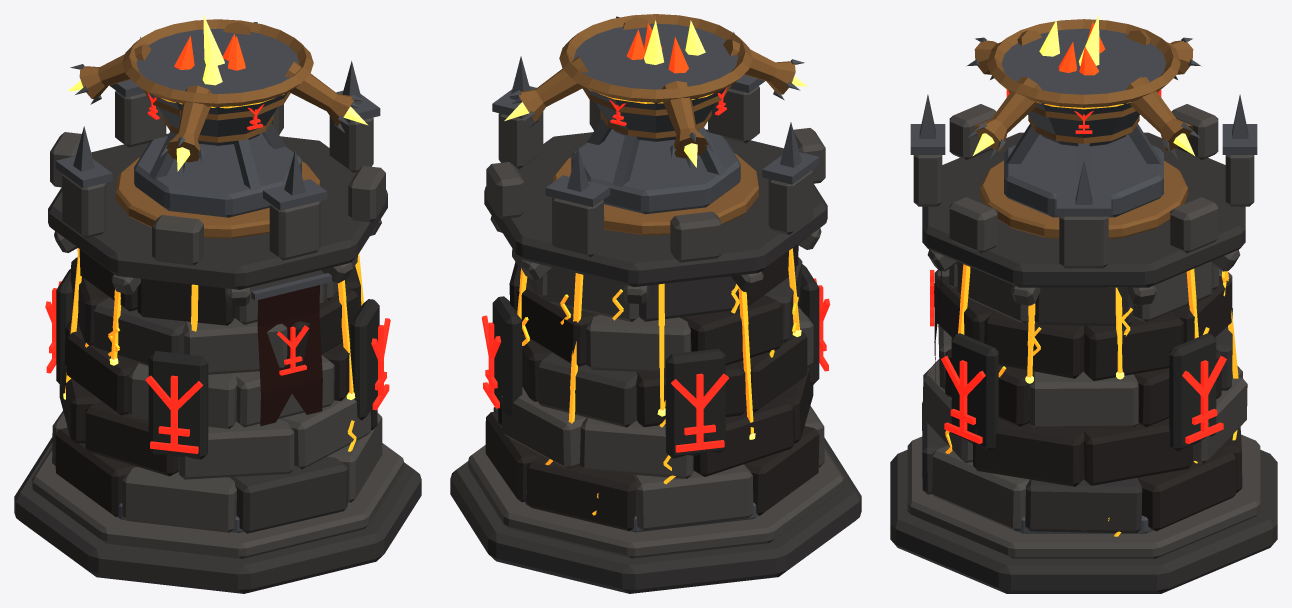
File: fire_tower_inferno.glb
The picture shows the model from 3 angles, left to right: view 1: azimuth 30°, elevation 25°; view 2: azimuth 150°, elevation 25°; view 3: azimuth 270°, elevation 25°; orthographic projection.
Parts seen in each view (by area): view 1: Platform, Plinth, Plinth_Step, Crucible, Turret_Base, Banner, Block_0_6, Block_0_5, Block_1_5, RuneStone_3, Crucible_Rim, Block_3_5 (+40 smaller); view 2: Platform, Plinth, Plinth_Step, Crucible, Turret_Base, Block_0_3, Block_0_2, Block_2_2, Block_1_2, RuneStone_2, Block_3_2, Crucible_Rim (+38 smaller); view 3: Platform, Plinth, Plinth_Step, Crucible, Turret_Base, Block_0_0, Block_2_0, Block_1_7, Block_1_0, Turret_Ring, Block_0_1, Block_3_0 (+37 smaller).
Part boxes in pixels (x1,y1,x2,y2): Platform: [48, 133, 387, 289]; Plinth: [14, 437, 421, 593]; Plinth_Step: [32, 443, 403, 558]; Crucible: [136, 28, 299, 145]; Turret_Base: [134, 133, 301, 217]; Banner: [257, 285, 322, 426]; Block_0_6: [229, 456, 348, 533]; Block_0_5: [122, 467, 236, 532]; Block_1_5: [178, 419, 294, 479]; RuneStone_3: [148, 351, 208, 459]; Crucible_Rim: [122, 19, 313, 106]; Block_3_5: [183, 318, 287, 374]; Platform: [484, 129, 827, 286]; Plinth: [450, 437, 861, 593]; Plinth_Step: [468, 445, 843, 558]; Crucible: [573, 23, 738, 141]; Turret_Base: [571, 129, 740, 214]; Block_0_3: [633, 464, 753, 530]; Block_0_2: [526, 455, 635, 531]; Block_2_2: [537, 353, 637, 427]; Block_1_2: [580, 417, 693, 478]; RuneStone_2: [665, 348, 725, 458]; Block_3_2: [586, 315, 691, 372]; Crucible_Rim: [559, 14, 752, 102]; Platform: [922, 132, 1245, 287]; Plinth: [890, 449, 1277, 593]; Plinth_Step: [907, 434, 1260, 558]; Crucible: [1001, 28, 1166, 146]; Turret_Base: [1004, 134, 1163, 217]; Block_0_0: [1025, 478, 1142, 533]; Block_2_0: [1029, 371, 1138, 428]; Block_1_7: [973, 418, 1084, 486]; Block_1_0: [1082, 418, 1192, 485]; Turret_Ring: [980, 160, 1187, 238]; Block_0_1: [1137, 448, 1235, 531]; Block_3_0: [1083, 311, 1183, 380].
Bounding box in the file's own units: 2.68 × 3.8 × 2.68.
